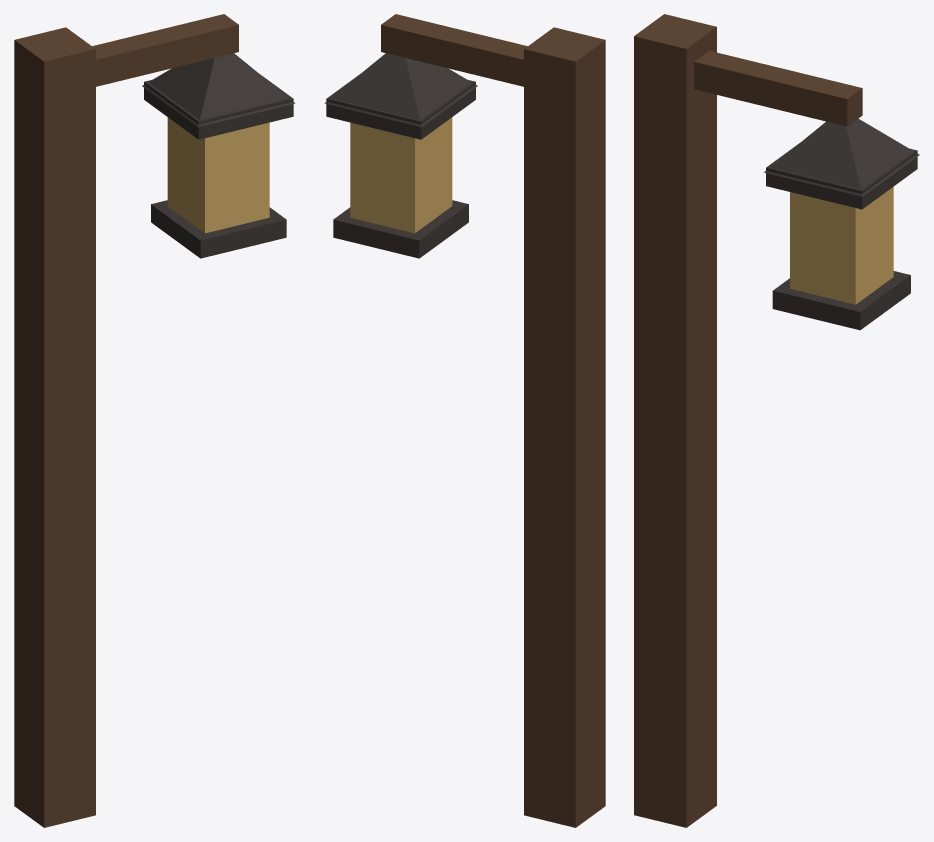
File: lantern_post.glb
The picture shows the model from 3 angles, left to right: view 1: azimuth 30°, elevation 25°; view 2: azimuth 150°, elevation 25°; view 3: azimuth 330°, elevation 25°; orthographic projection.
Visible parts, largest first — view 1: lantern_post, lantern_post_glow; view 2: lantern_post, lantern_post_glow; view 3: lantern_post, lantern_post_glow.
Boxes of the visible parts, box(x1,y1,x2,y2) form: lantern_post: box(14, 14, 295, 827); lantern_post_glow: box(167, 117, 269, 233); lantern_post: box(324, 14, 605, 827); lantern_post_glow: box(350, 117, 452, 233); lantern_post: box(634, 14, 919, 827); lantern_post_glow: box(790, 187, 893, 304).
Bounding box in the file's own units: 0.5531 × 1.7 × 0.2263.
